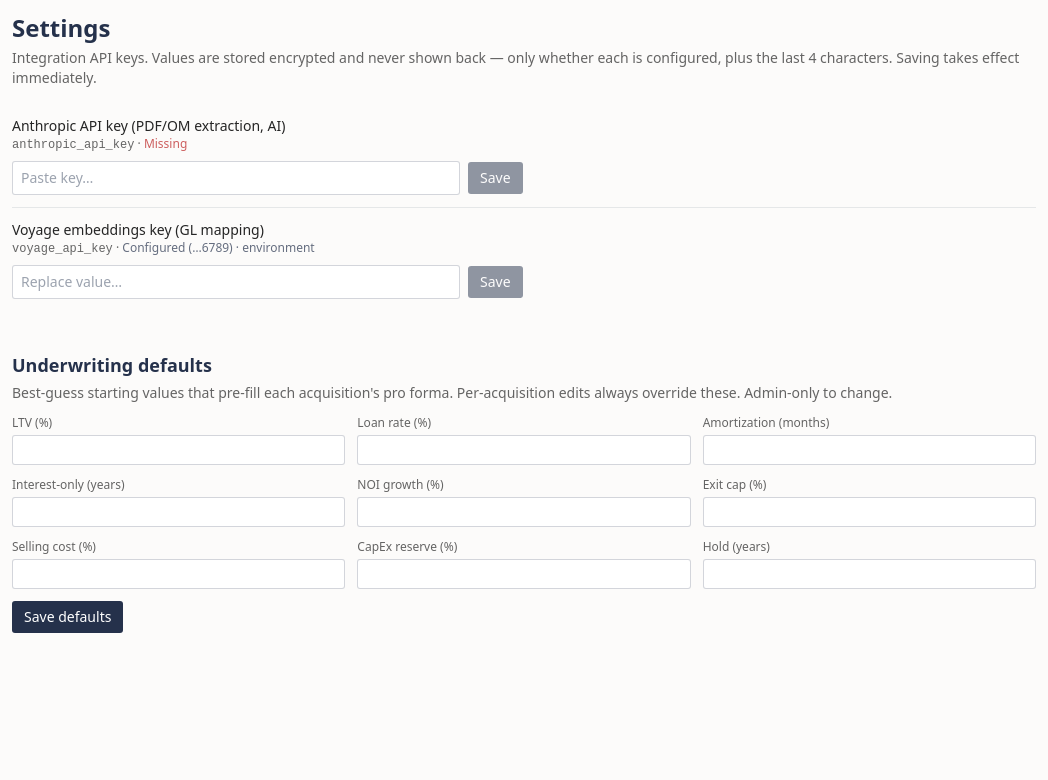
Scenario: Settings › shows configured/missing status and saves a key (write-only)
Expected: the text "Missing" is shown, [144, 135, 187, 152]
Expected: the text "Configured (…6789) · environment" is shown, [122, 239, 315, 256]
Type "sk-ant-newkeyWXYZ" into the password field with placeholder "Paste key…" at (236, 178), box [12, 161, 460, 195]
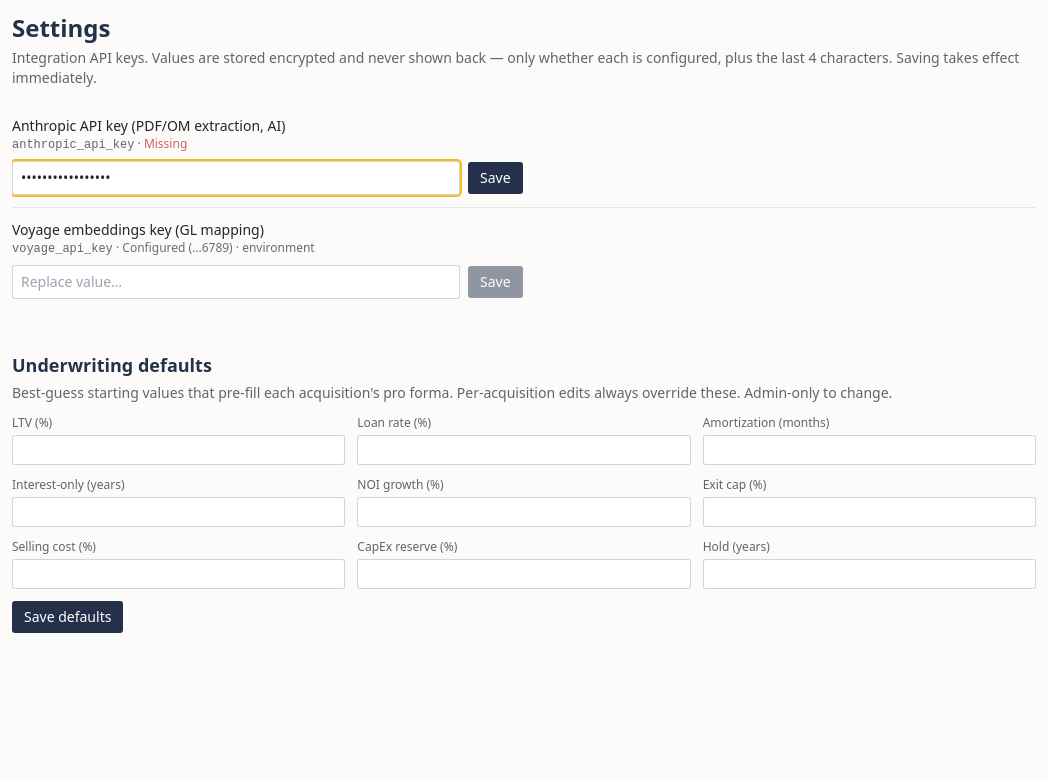
Click the 1st button "Save" at (495, 178), box [468, 162, 523, 194]
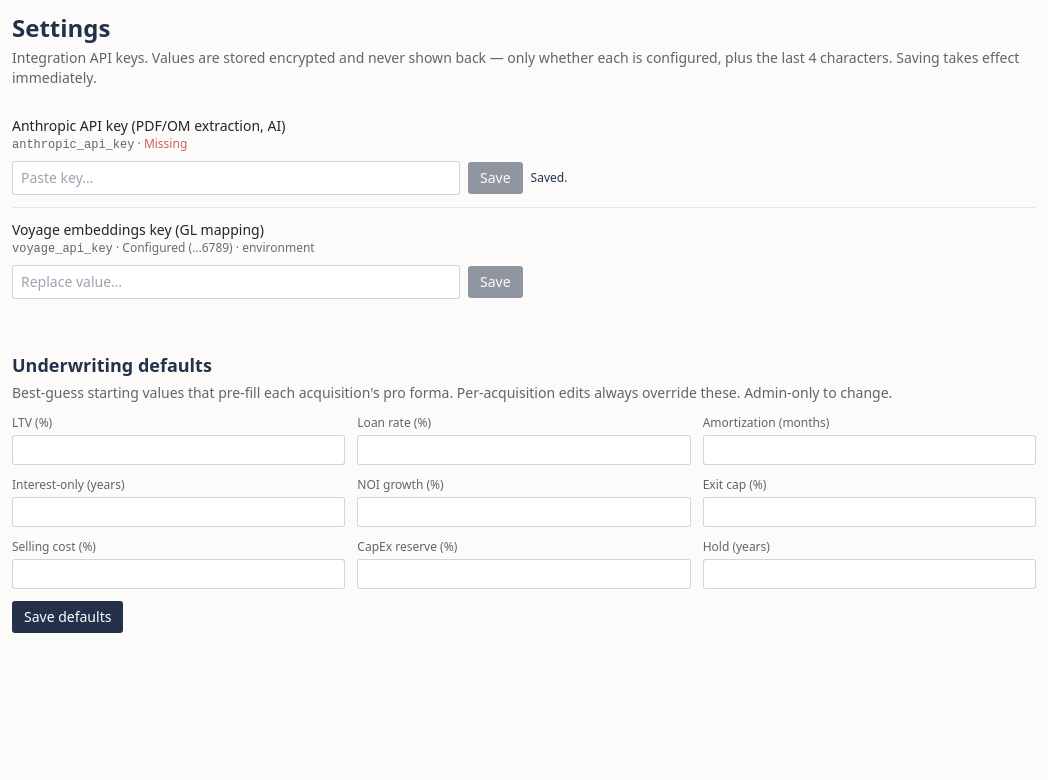
Result: the text "Saved." is shown at [531, 170, 567, 186]
